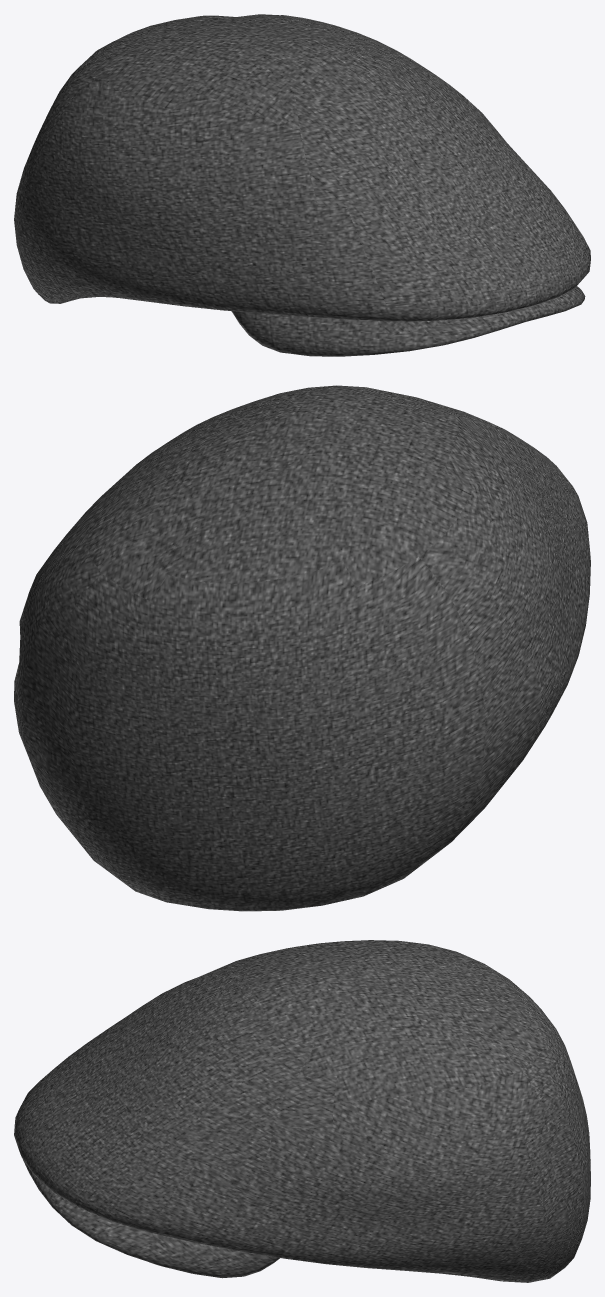
Rendered from elvs-male-flat-cap1.glb.
3 renders of one model, top to bottom at view 1: azimuth 30°, elevation 25°; view 2: azimuth 150°, elevation 25°; view 3: azimuth 270°, elevation 25°, orthographic. The views are drawn at different scales.
Visible parts, largest first — view 1: Human.elvs_male_flat_cap1; view 2: Human.elvs_male_flat_cap1; view 3: Human.elvs_male_flat_cap1.
Boxes of the visible parts, x1,y1,x2,y2 form: Human.elvs_male_flat_cap1: (14,14,590,356); Human.elvs_male_flat_cap1: (14,385,590,911); Human.elvs_male_flat_cap1: (14,940,590,1282).
Size of the model in its own units: 0.199 by 0.1412 by 0.256.
Materials: 1 (1 with a texture image).
